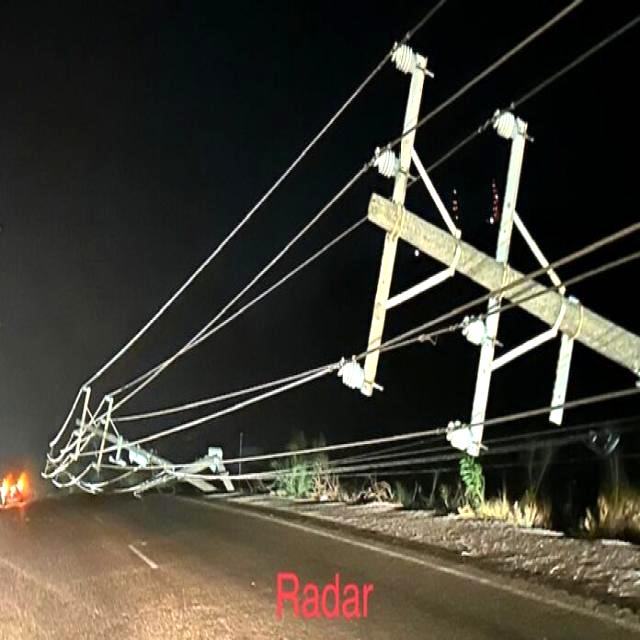Broken Pole: (334, 36, 638, 466)
